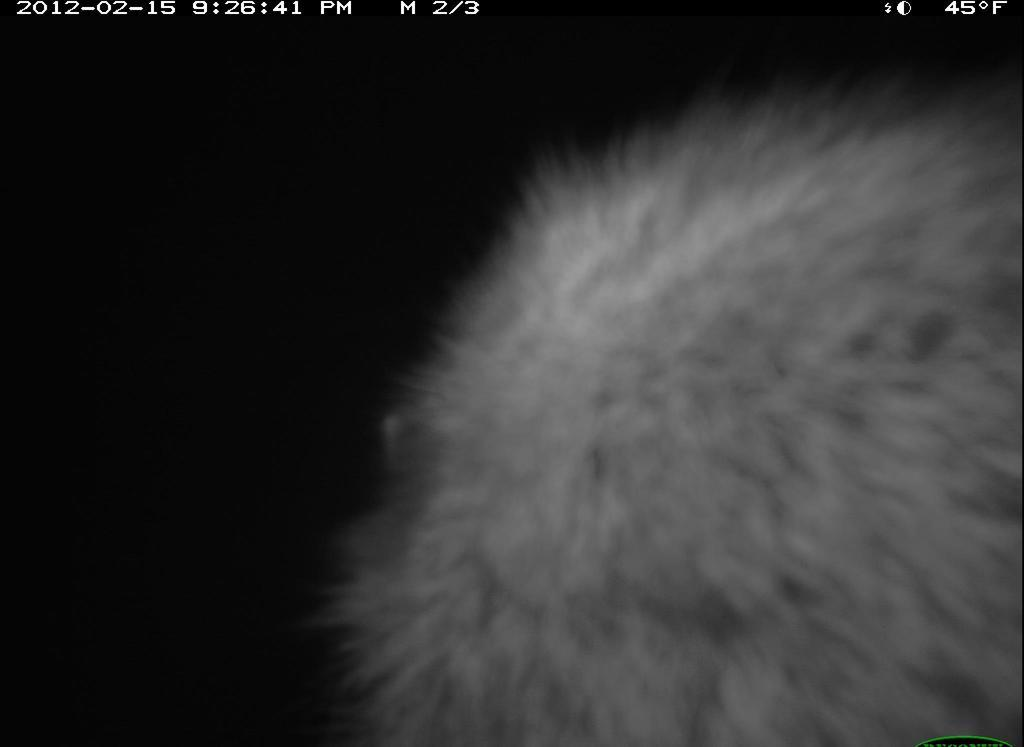raccoon: (304, 49, 1022, 740)
